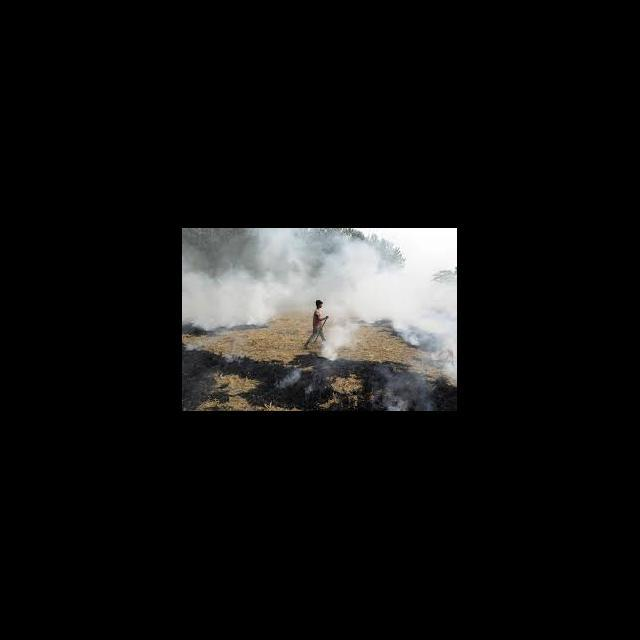Smoke: (184, 228, 456, 334), (372, 358, 434, 411), (439, 349, 456, 386), (276, 366, 302, 390), (225, 347, 249, 366), (186, 339, 208, 354)
